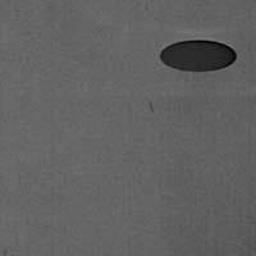Punching: (160, 40, 237, 72)
